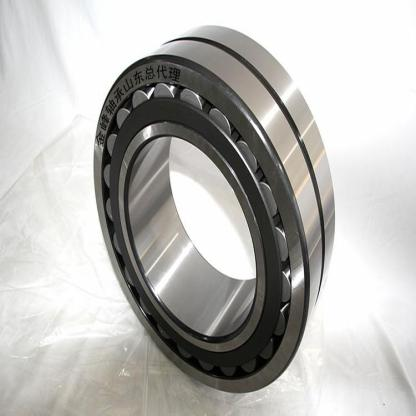FOD: (90, 22, 336, 395)
